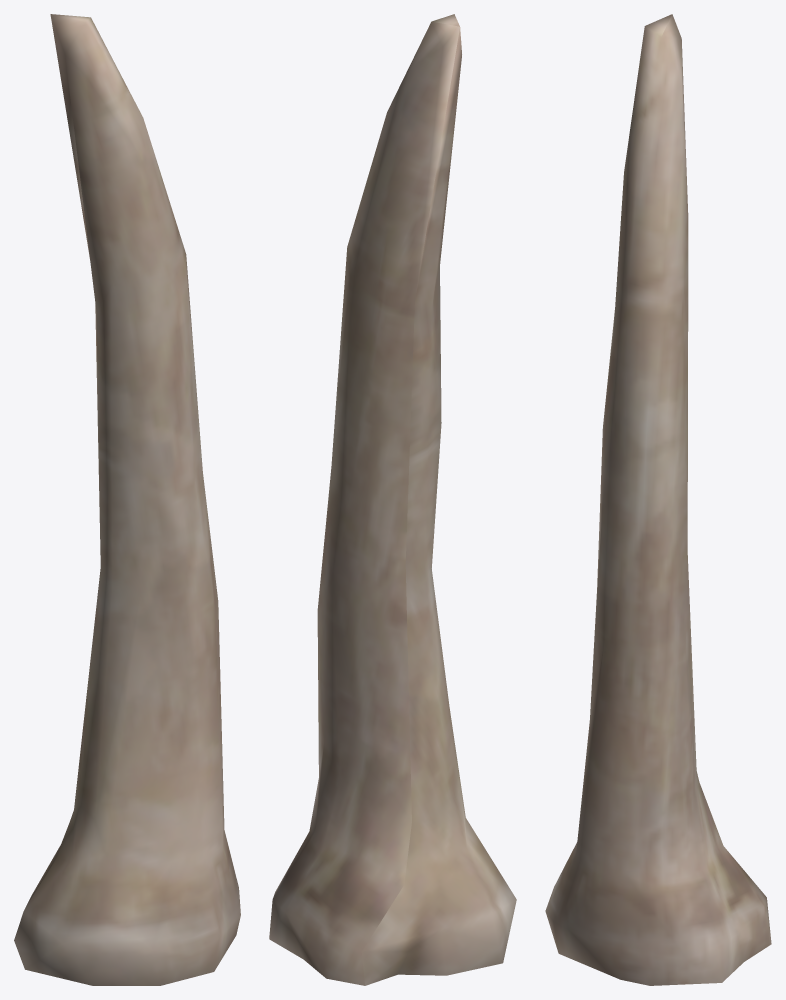
The model's file is Stone_Thorn_01.FBX.
The picture shows the model from 3 angles, left to right: view 1: azimuth 30°, elevation 25°; view 2: azimuth 150°, elevation 25°; view 3: azimuth 270°, elevation 25°; orthographic projection. The views are drawn at different scales.
Visible parts, largest first — view 1: Stone_Thorn_01_LOD0; view 2: Stone_Thorn_01_LOD0; view 3: Stone_Thorn_01_LOD0.
Boxes of the visible parts, <box> form: Stone_Thorn_01_LOD0: <box>14,14,240,985</box>; Stone_Thorn_01_LOD0: <box>269,14,516,985</box>; Stone_Thorn_01_LOD0: <box>545,14,771,985</box>.
Size of what is drawn, in the model's own units: 0.1611 by 0.6714 by 0.1539.
